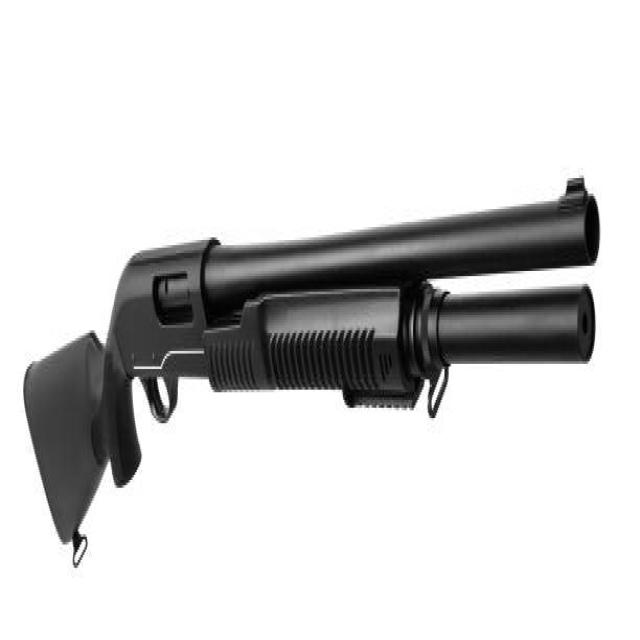rifle: (20, 161, 607, 595)
